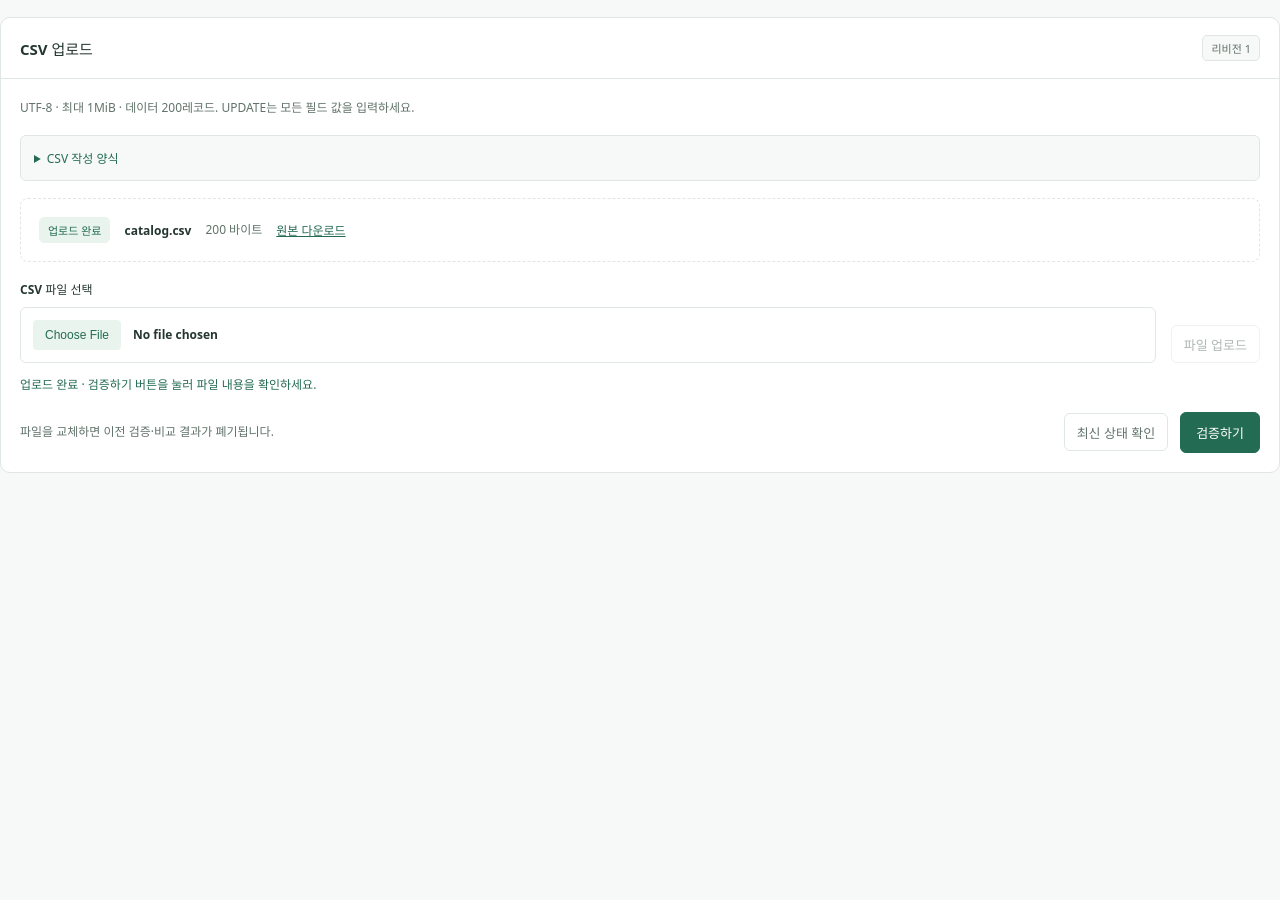
it: 검증을 실행하면 오류 결과에 초점을 옮기고 다음 행동을 안내한다
Click the button "검증하기" at (1220, 432), box [1180,412,1260,453]
(page scrolled)
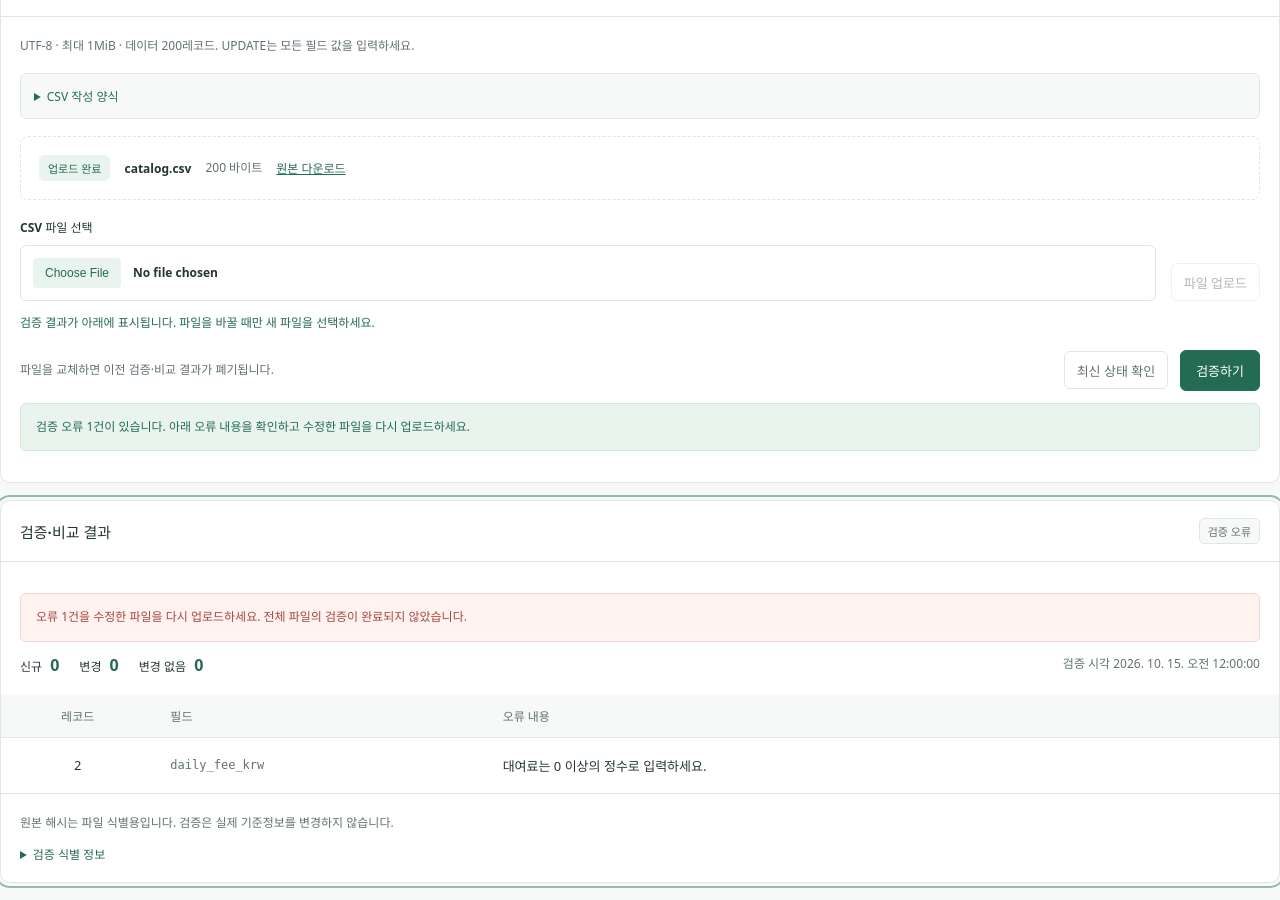
Now the text "검증 오류 1건이 있습니다. 아래 오류 내용을 확인하고 수정한 파일을 다시 업로드하세요." is shown, box [20,403,1260,451]
